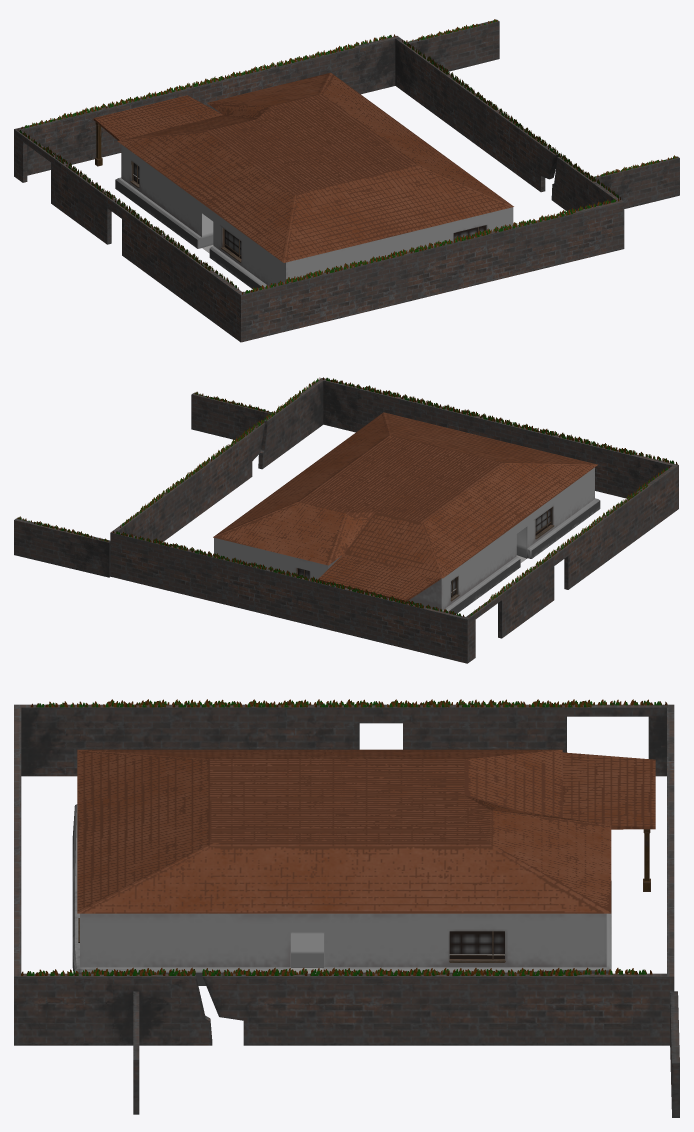
Rendered from house delegate.fbx.
The picture shows the model from 3 angles, top to bottom: view 1: azimuth 30°, elevation 25°; view 2: azimuth 150°, elevation 25°; view 3: azimuth 270°, elevation 25°; orthographic projection. The views are drawn at different scales.
Visible parts, largest first — view 1: Cube.001; view 2: Cube.001; view 3: Cube.001.
Boxes of the visible parts, <box> form: Cube.001: <box>14,19,679,342</box>; Cube.001: <box>14,377,678,663</box>; Cube.001: <box>14,699,679,1117</box>.
Size of the model in its own units: 3413 by 465 by 2782.
